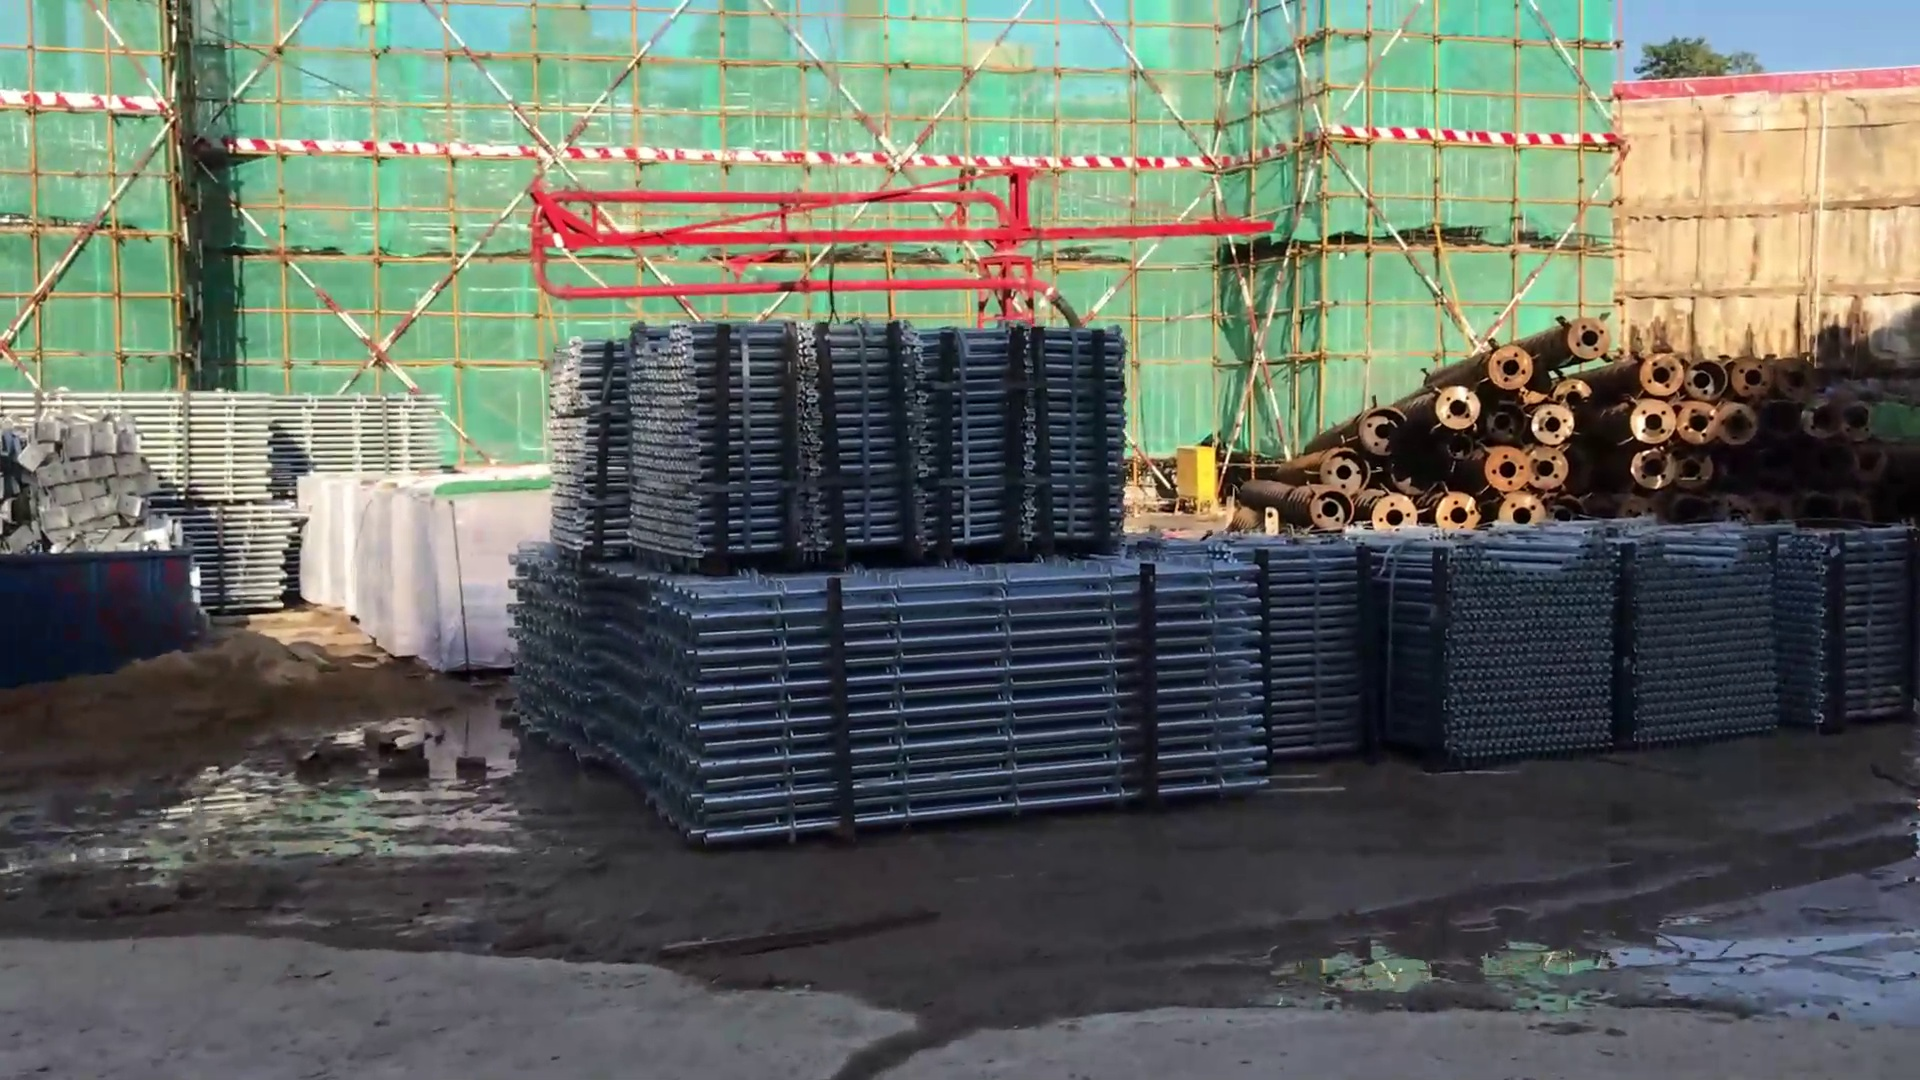ebox: (1156, 435, 1238, 518)
hopper: (15, 556, 204, 663)
scaffold: (506, 539, 1278, 835), (531, 309, 1116, 583), (1408, 475, 1607, 771), (1601, 509, 1793, 753), (1789, 508, 1920, 703), (152, 392, 299, 491), (196, 487, 293, 609), (291, 401, 444, 477)
